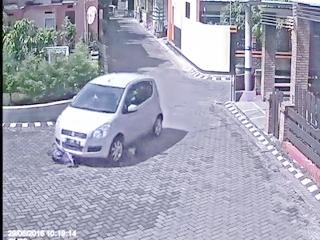Car: (53, 71, 164, 159)
Minor Accident: (42, 66, 164, 171)
Motor: (47, 145, 87, 170)
